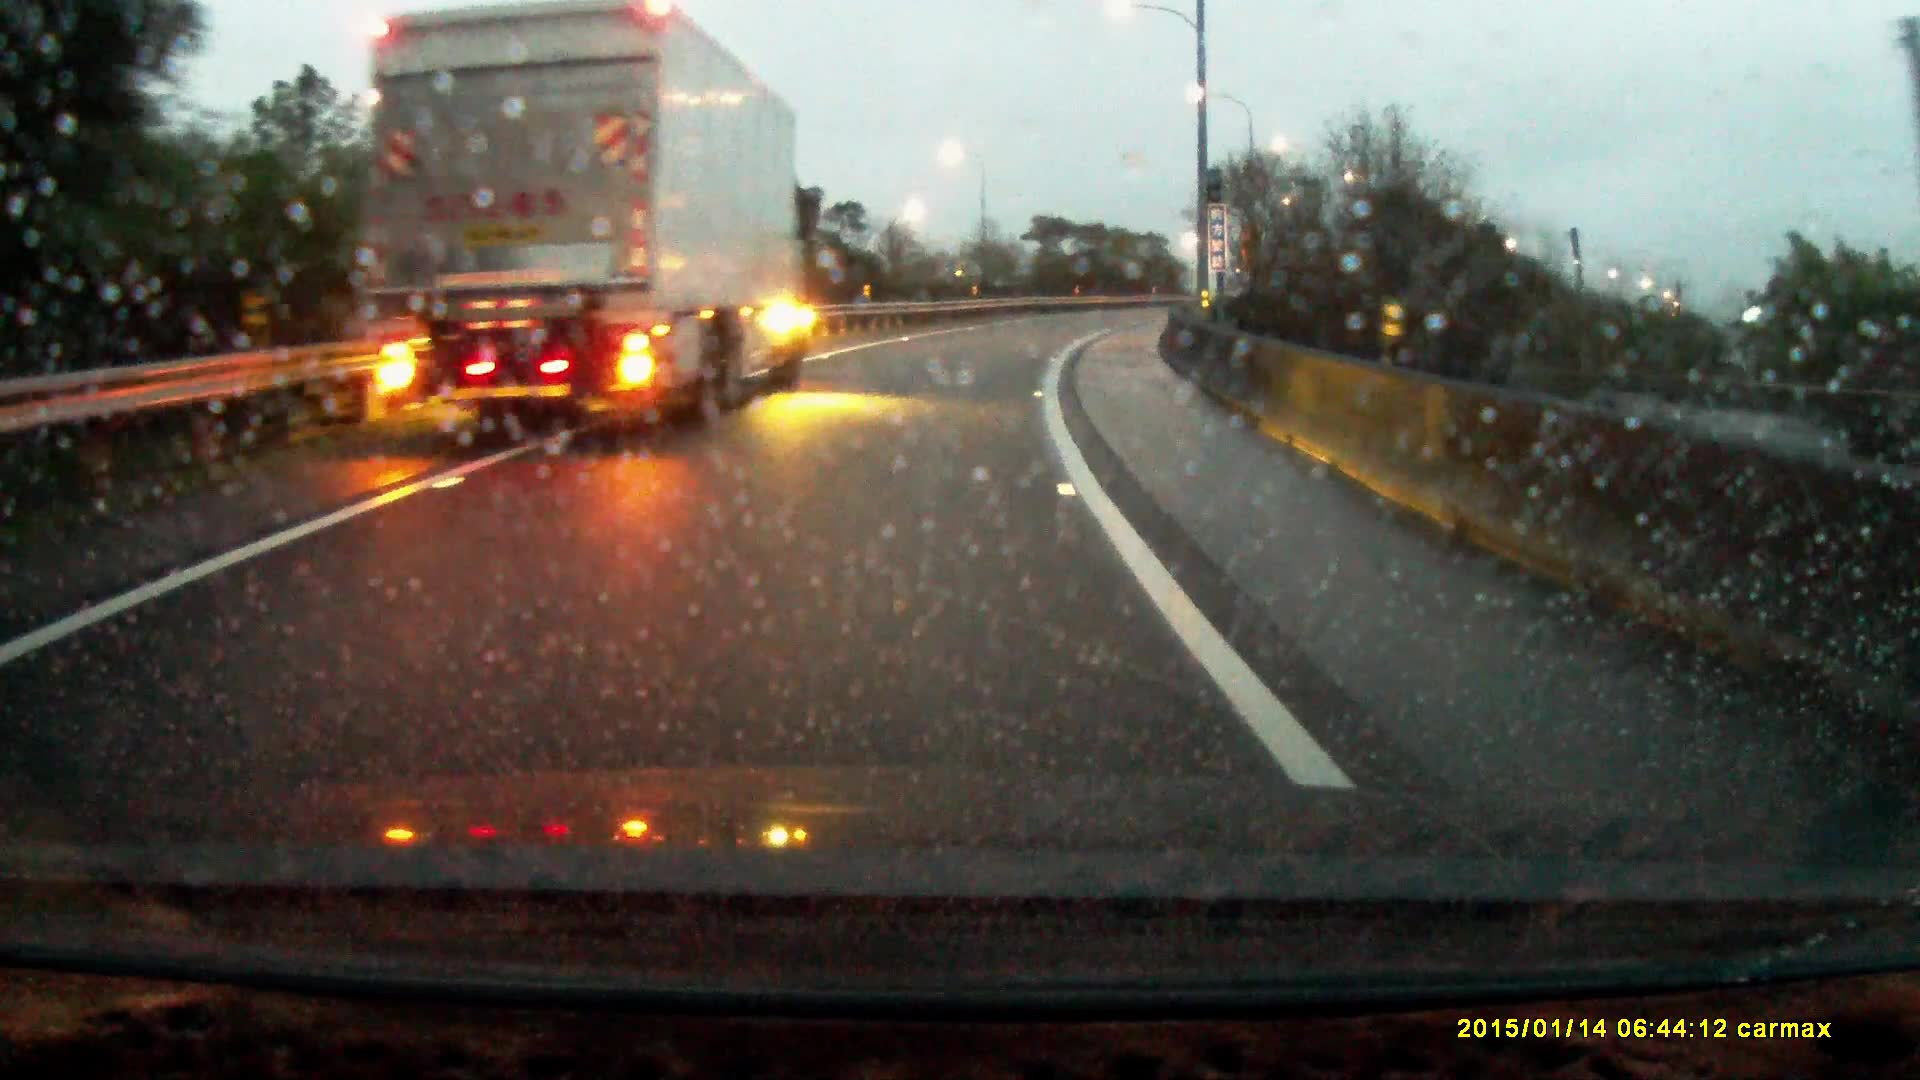vehicle: (357, 3, 818, 425)
